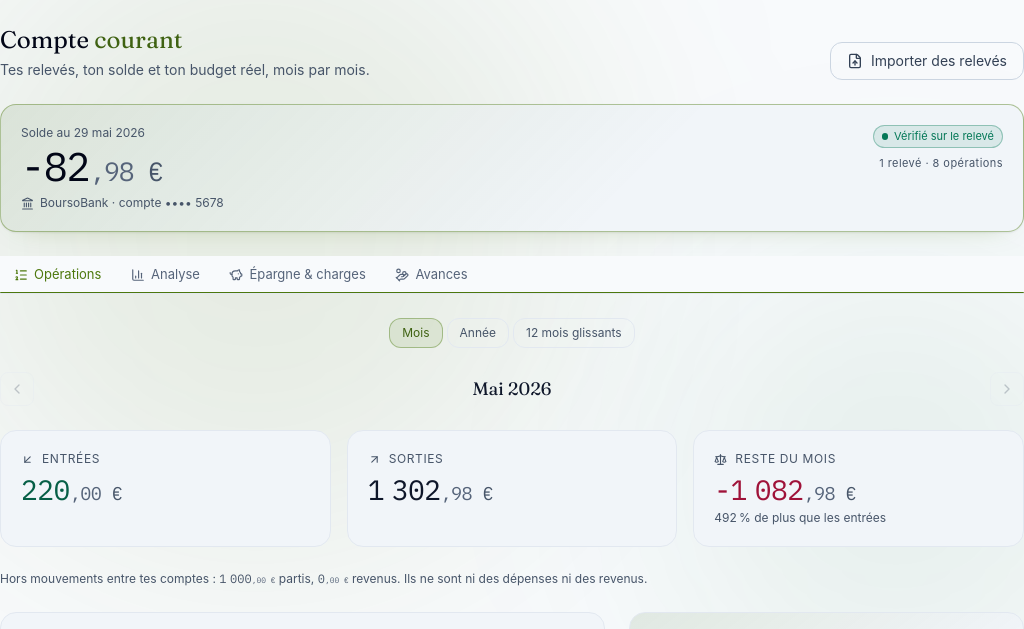
CompteCourant — échelles de lecture › passe du mois à l'année et aux douze mois glissants
Click the button "Année": (478, 333) [446,318,509,348]
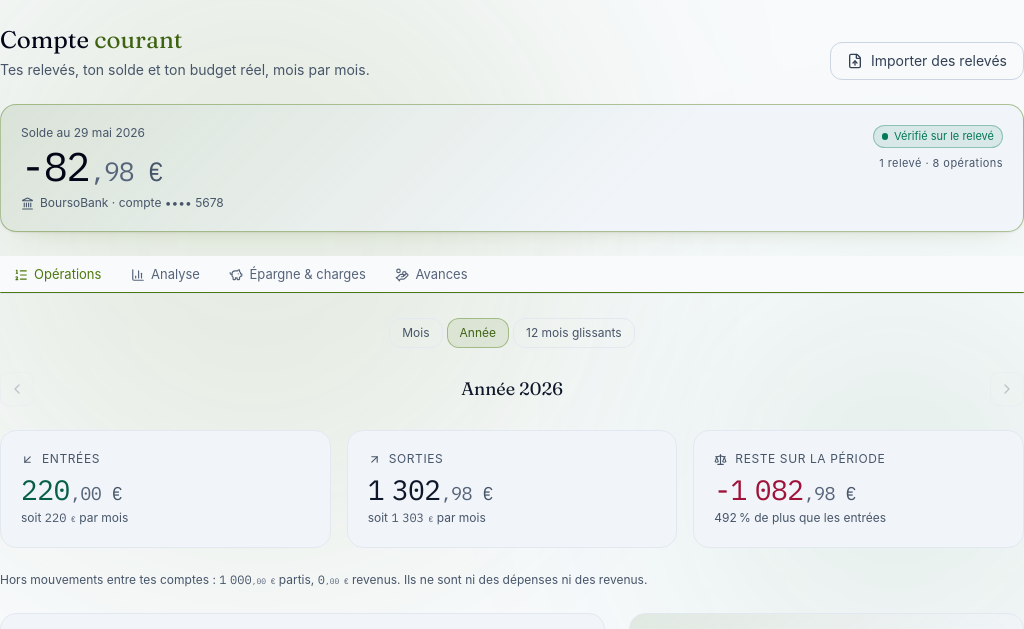
Expected: the text "Tes relevés, ton solde et ton budget réel, mois par mois." is shown, [0,60,370,80]
Expected: the heading "Année 2026" is shown, [461,375,563,403]
Expected: the text "Reste sur la période" is shown, [735,451,885,467]
Click the button "12 mois glissants": (574, 333) [513,318,635,348]
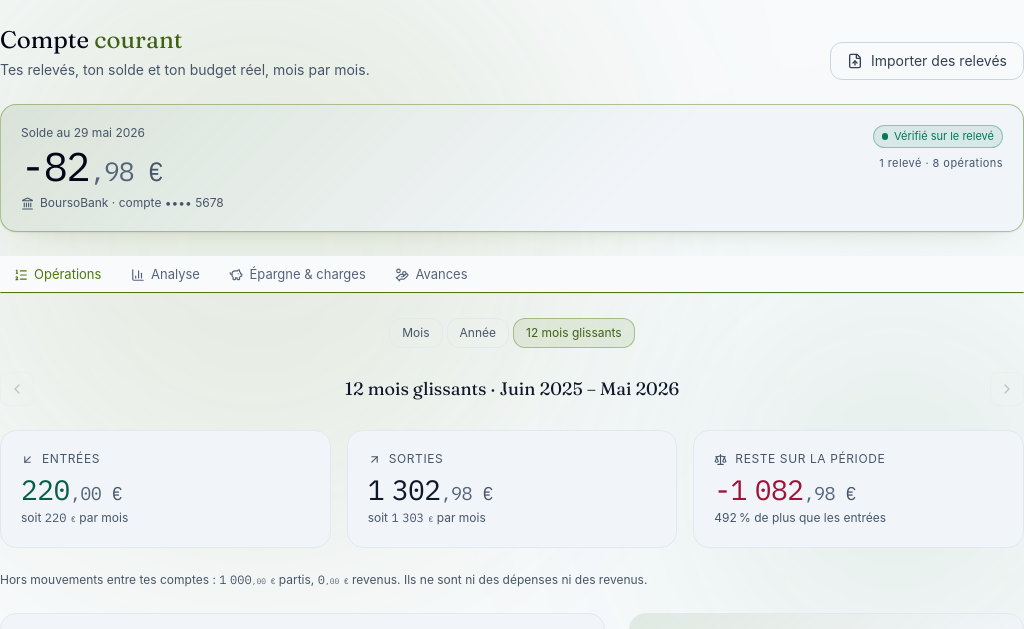
Expected: the heading "12 mois glissants · Juin 2025 – Mai 2026" is shown, [345,375,679,403]
Click the tab "Analyse": (165, 275) [117,256,214,293]
(page scrolled)
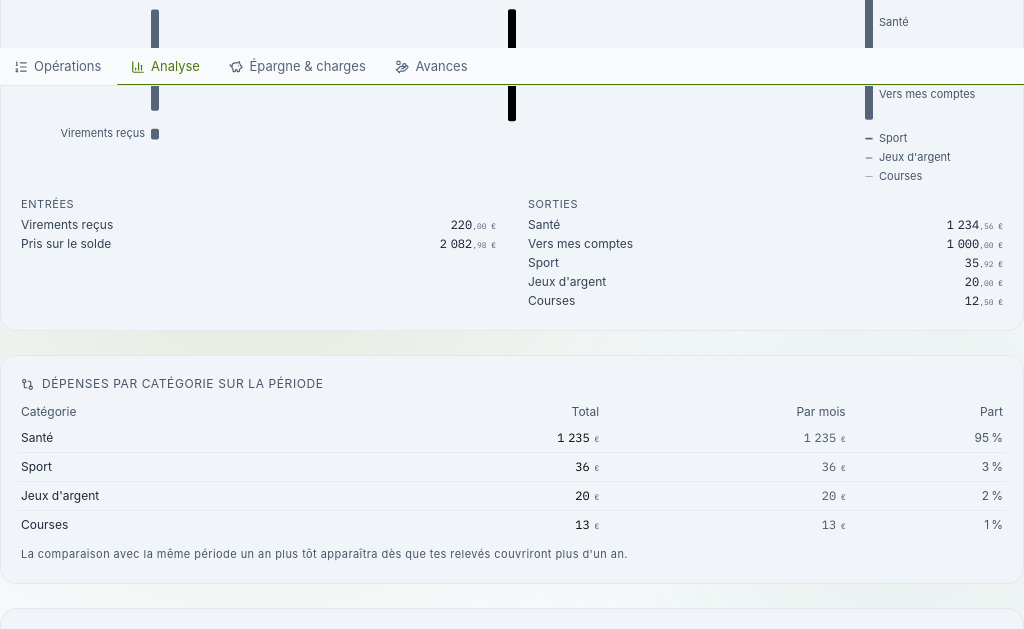
Expected: the text "Dépenses par catégorie sur la période" is shown, [42,376,324,392]
